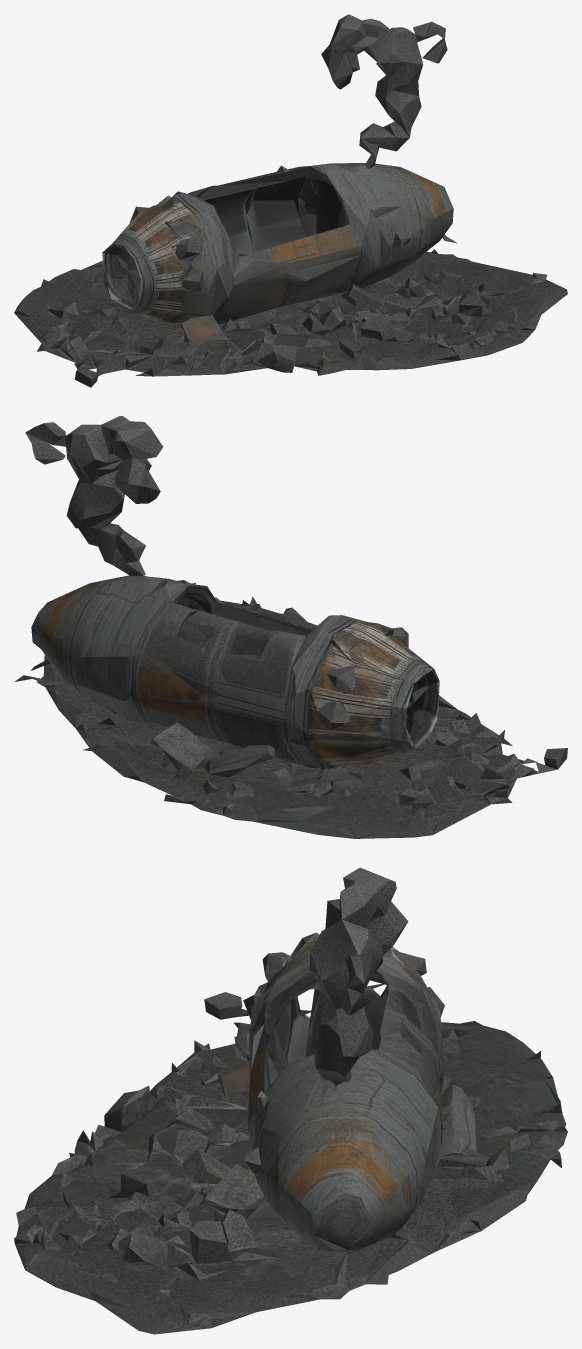
File: escape_pod.glb
3 renders of one model, top to bottom at view 1: azimuth 30°, elevation 25°; view 2: azimuth 150°, elevation 25°; view 3: azimuth 270°, elevation 25°, orthographic. The views are drawn at different scales.
Size of the model in its own units: 4.63 by 2.4 by 3.33.
Materials: 1 (1 with a texture image).
